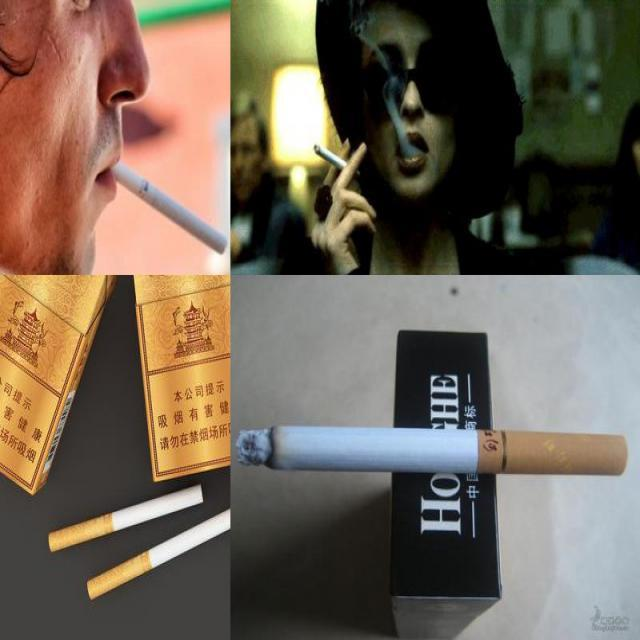cigarette: (234, 422, 628, 480), (87, 505, 230, 600), (108, 155, 230, 260), (49, 484, 204, 552), (312, 142, 362, 180)
